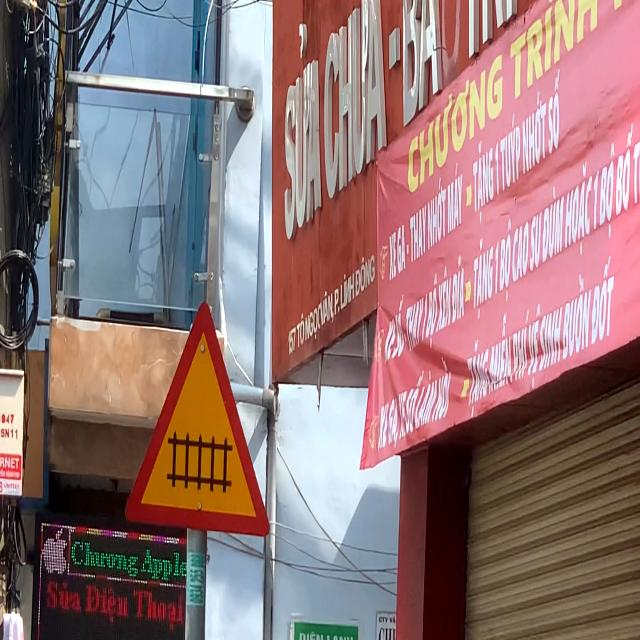W.210: (117, 270, 278, 548)
